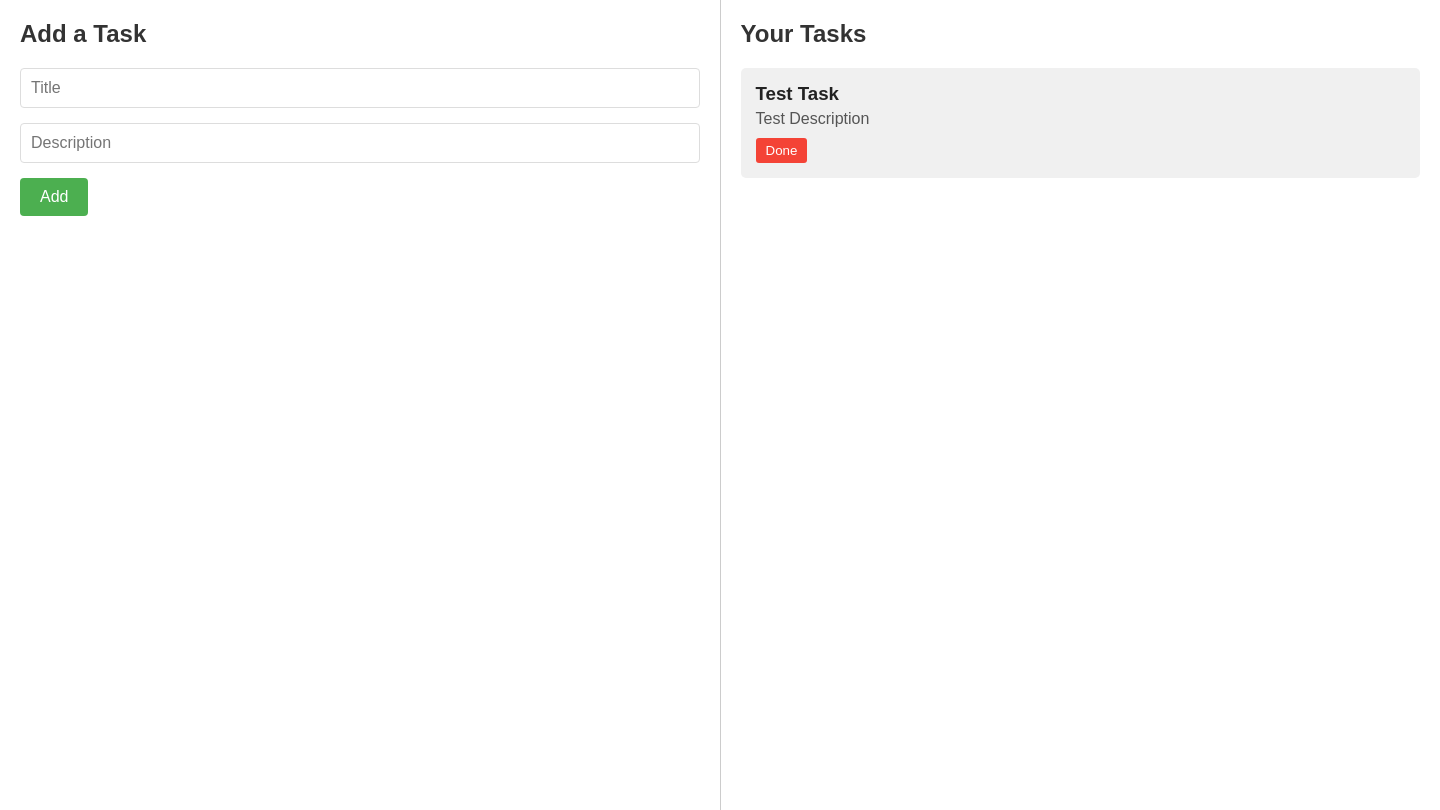
it: Todo App › marks a task as done
The image size is (1440, 810).
Expected: the heading "Test Task" is shown, [756,83,839,104]
Click the button "Done".
click(781, 150)  # box [756,138,807,163]
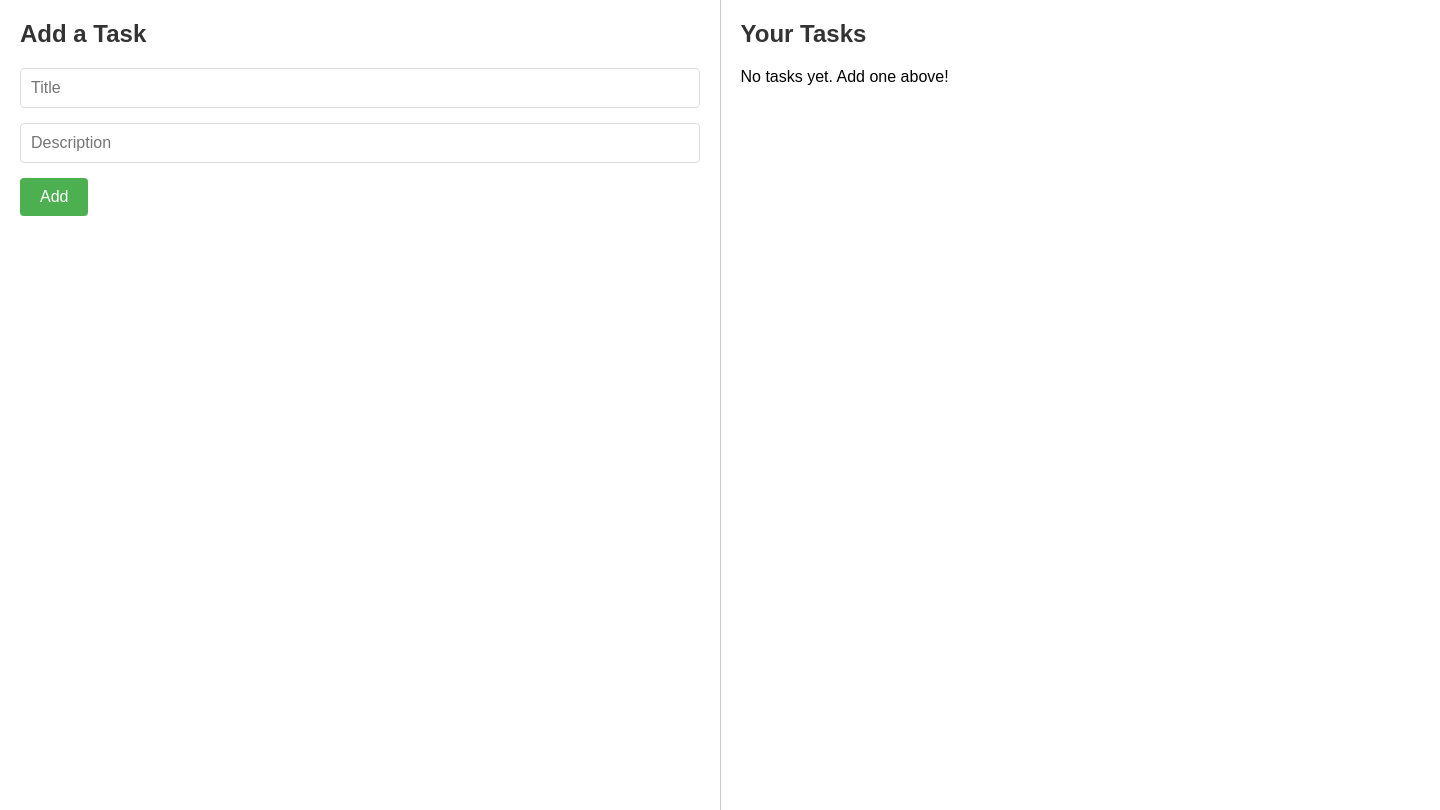
Result: the heading "Test Task" is gone
